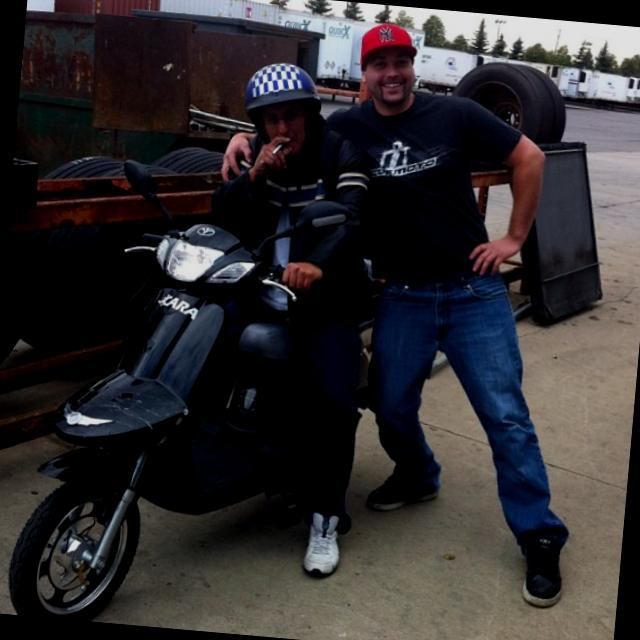Vehicle: (3, 151, 388, 640)
